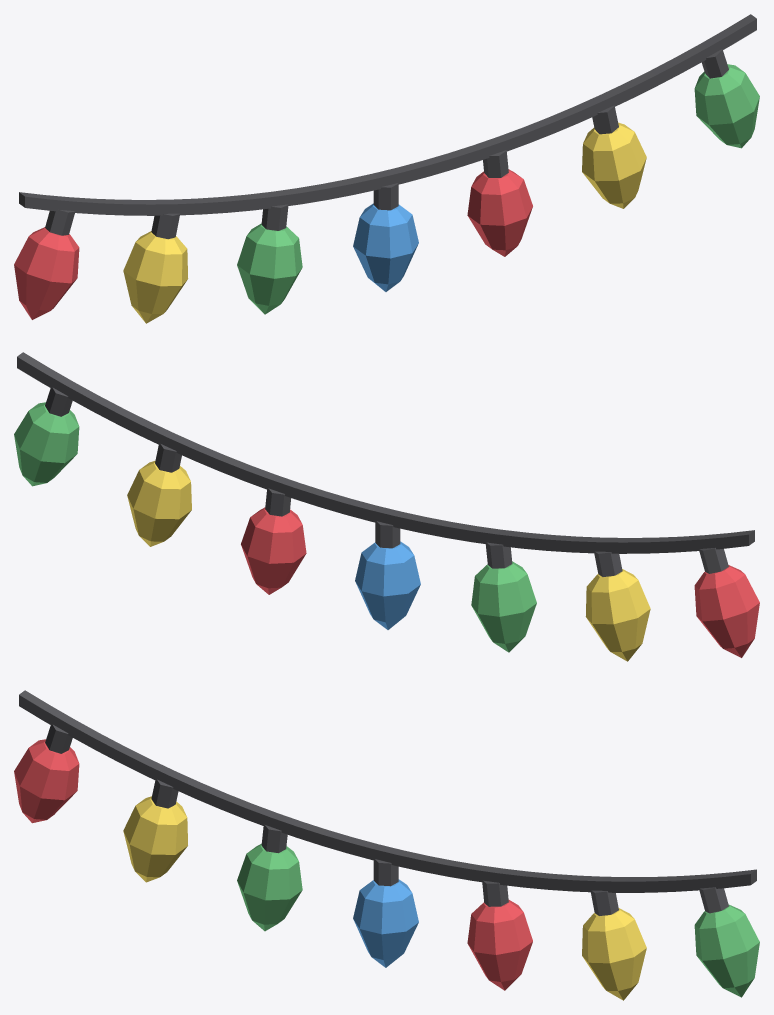
The model's file is LightString.glb.
The picture shows the model from 3 angles, top to bottom: view 1: azimuth 30°, elevation 25°; view 2: azimuth 150°, elevation 25°; view 3: azimuth 330°, elevation 25°; orthographic projection.
Parts seen in each view (by area): view 1: Wire, Red, Yellow, Green, Blue; view 2: Wire, Red, Yellow, Green, Blue; view 3: Wire, Green, Yellow, Red, Blue.
Part boxes in pixels (<box>): Wire: <box>19,14,756,239</box>; Red: <box>14,169,532,319</box>; Yellow: <box>123,122,646,323</box>; Green: <box>237,64,759,314</box>; Blue: <box>353,203,418,291</box>; Wire: <box>17,352,754,576</box>; Red: <box>241,507,759,657</box>; Yellow: <box>127,461,650,661</box>; Green: <box>14,402,536,652</box>; Blue: <box>355,541,420,629</box>; Wire: <box>19,690,756,915</box>; Green: <box>237,844,759,997</box>; Yellow: <box>123,796,646,1000</box>; Red: <box>14,739,532,990</box>; Blue: <box>353,879,418,967</box>.
Size of the model in its own units: 0.9997 by 0.2432 by 0.0726.
